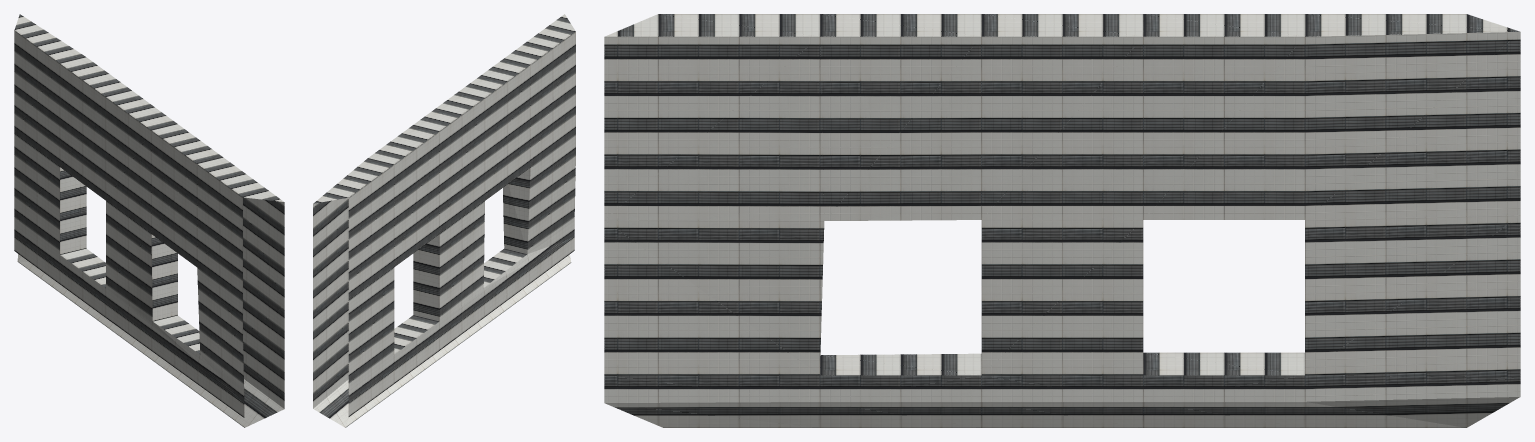
Rendered from Central_Wall_2.FBX.
3 renders of one model, left to right at view 1: azimuth 30°, elevation 25°; view 2: azimuth 150°, elevation 25°; view 3: azimuth 270°, elevation 25°, orthographic. The views are drawn at different scales.
Visible parts, largest first — view 1: Central_Wall_2; view 2: Central_Wall_2; view 3: Central_Wall_2.
Boxes of the visible parts, x1,y1,x2,y2 form: Central_Wall_2: (14, 14, 284, 427); Central_Wall_2: (313, 14, 575, 427); Central_Wall_2: (604, 14, 1520, 427).
Bounding box in the file's own units: 20.56 × 168 × 340.
